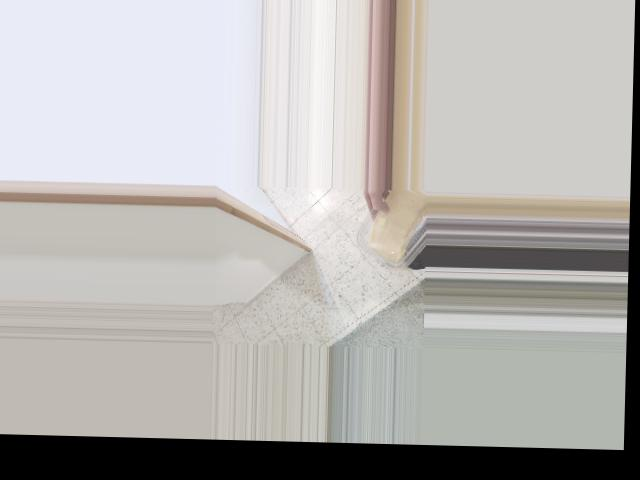cheese: (357, 187, 428, 267)
